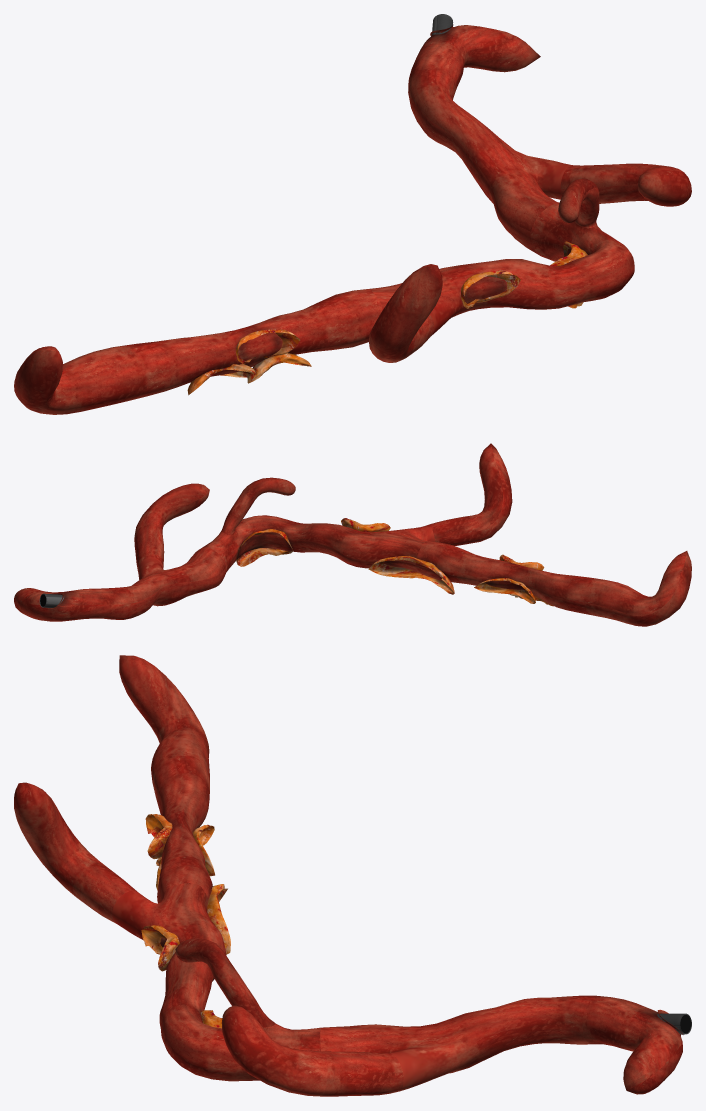
The model's file is veinRoute.fbx.
The picture shows the model from 3 angles, top to bottom: view 1: azimuth 30°, elevation 25°; view 2: azimuth 150°, elevation 25°; view 3: azimuth 270°, elevation 25°; orthographic projection. The views are drawn at different scales.
Visible parts, largest first — view 1: pCylinder24; view 2: pCylinder24; view 3: pCylinder24.
Part boxes in pixels (x1,y1,x2,y2): pCylinder24: (14, 14, 691, 414); pCylinder24: (14, 443, 691, 626); pCylinder24: (14, 655, 691, 1096).
Bounding box in the file's own units: 604 × 127 × 458.
